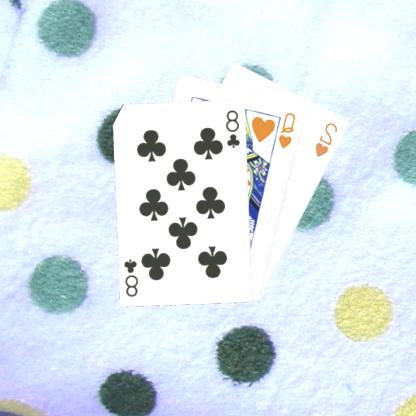2H: (314, 120, 342, 158)
8C: (225, 107, 244, 149), (123, 256, 142, 298)
QH: (278, 109, 299, 150)
